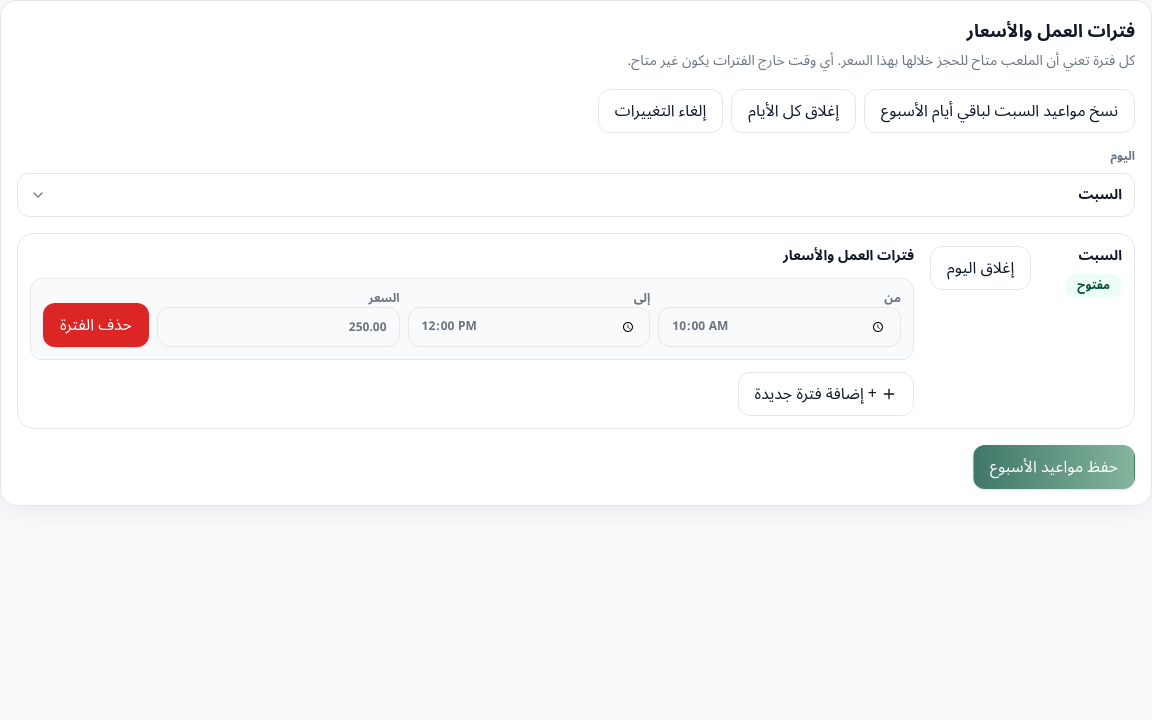
CourtWorkingHoursSection › shows backend working-hours field error when save fails
The width and height of the screenshot is (1152, 720).
Expected: the button named "اليوم" is shown, x1=17 y1=173 x2=1135 y2=217
Step 1. Click the button "حفظ مواعيد الأسبوع" → (1054, 467), box x1=973 y1=445 x2=1135 y2=489
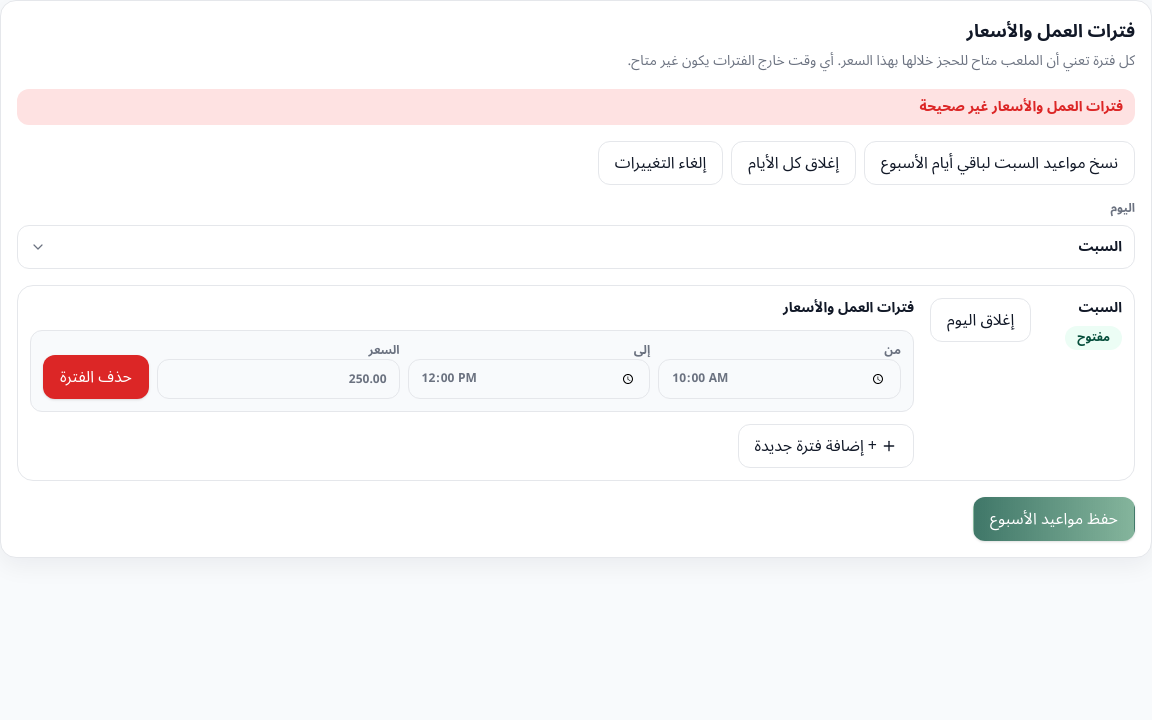
Now the text "فترات العمل والأسعار غير صحيحة" is shown, box x1=17 y1=89 x2=1135 y2=125
